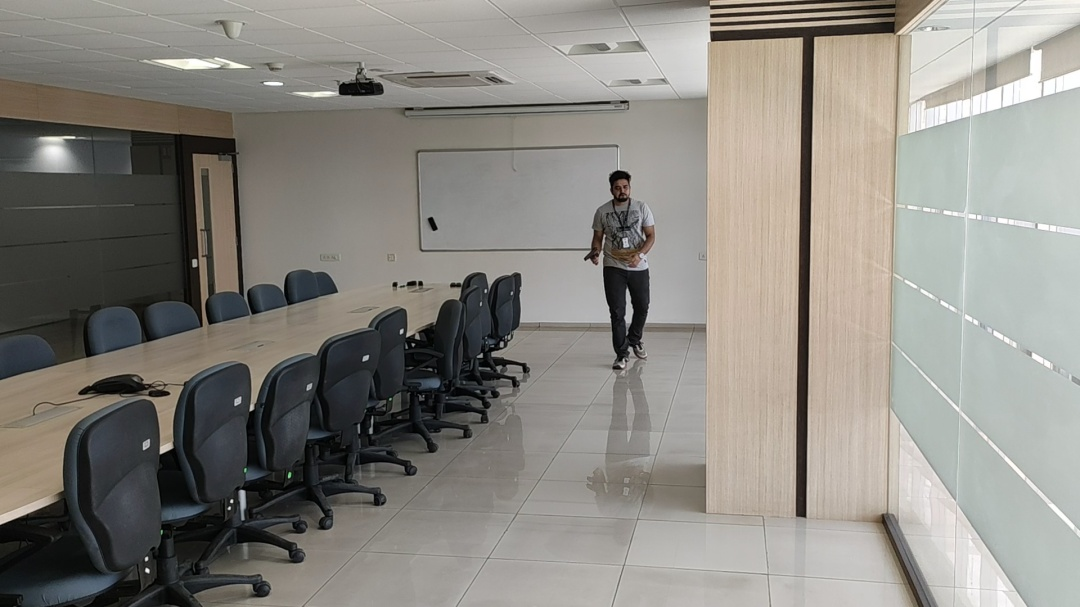gun: (582, 246, 599, 262)
